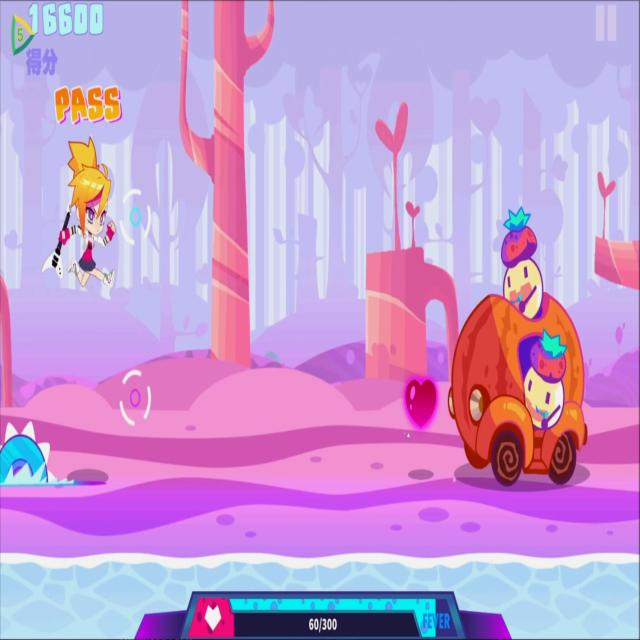cheboss: (446, 204, 592, 496)
xin: (399, 359, 441, 446)
